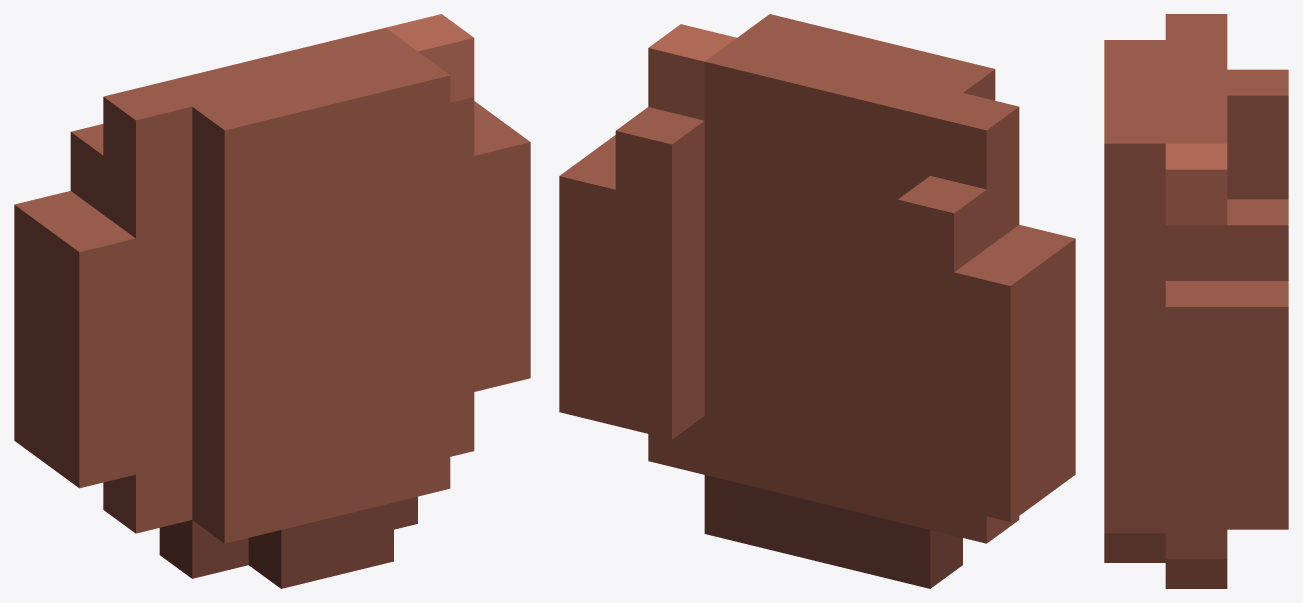
File: artifact_ancient_dragon_scale_lod1.glb
The picture shows the model from 3 angles, left to right: view 1: azimuth 30°, elevation 25°; view 2: azimuth 150°, elevation 25°; view 3: azimuth 270°, elevation 25°; orthographic projection. The views are drawn at different scales.
Visible parts, largest first — view 1: artifact_ancient_dragon_scale_lod1; view 2: artifact_ancient_dragon_scale_lod1; view 3: artifact_ancient_dragon_scale_lod1.
Part boxes in pixels (left/top/right/bottom): artifact_ancient_dragon_scale_lod1: left=14, top=14, right=530, bottom=588; artifact_ancient_dragon_scale_lod1: left=559, top=14, right=1075, bottom=588; artifact_ancient_dragon_scale_lod1: left=1104, top=14, right=1288, bottom=588.
Bounding box in the file's own units: 0.192 × 0.192 × 0.072.
